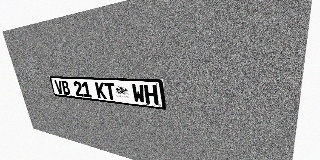plate: (49, 76, 166, 110)
